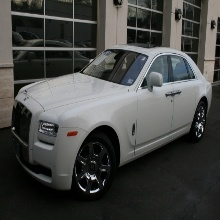no damage: (10, 44, 212, 197)
